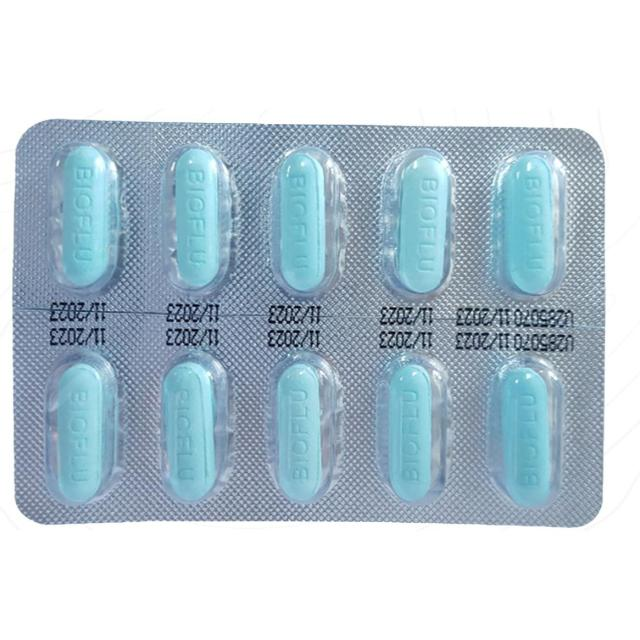blister: (7, 115, 610, 534)
